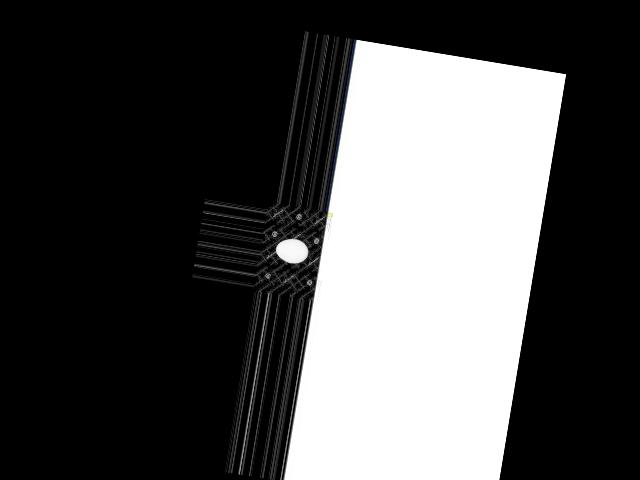egg: (274, 237, 310, 266)
